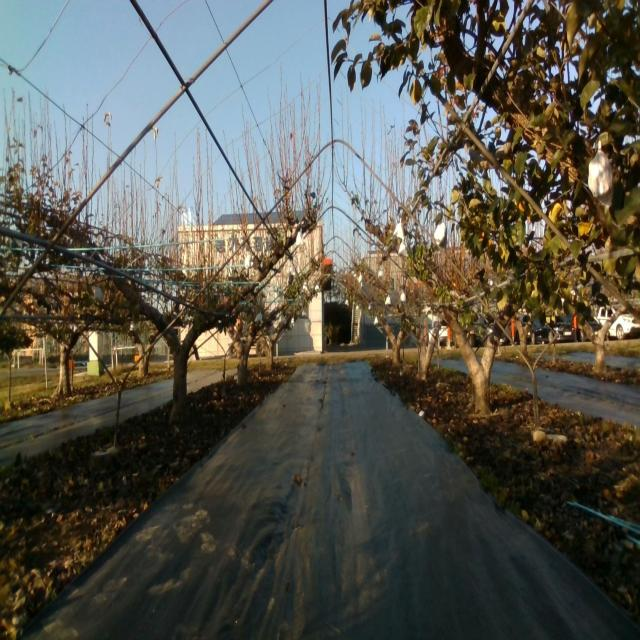pearbags: (586, 146, 613, 210), (434, 220, 447, 248)
